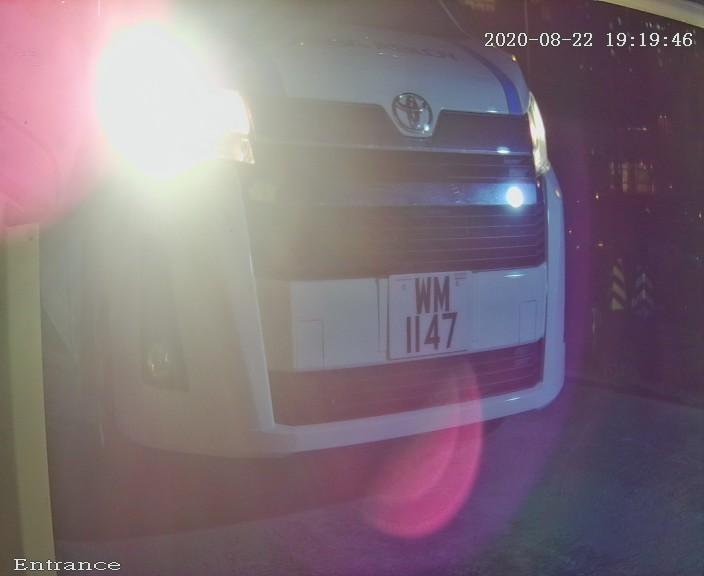Car: (19, 16, 651, 528)
License Plate: (365, 247, 478, 381)
